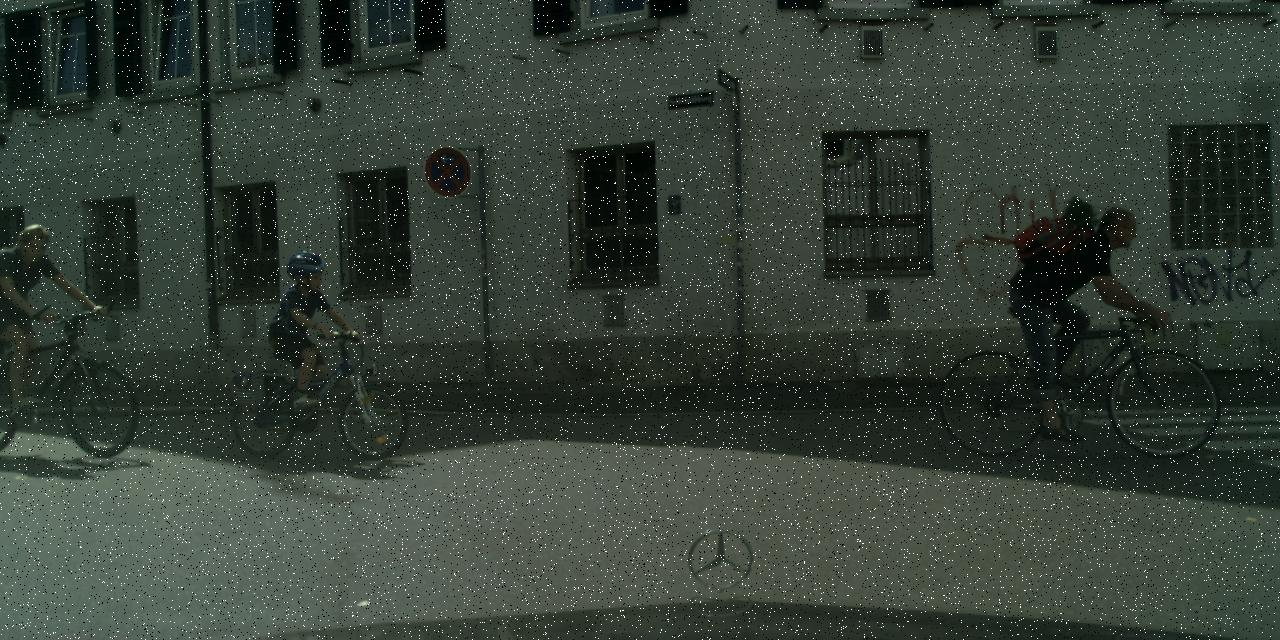ped: (1048, 208, 1132, 413), (0, 223, 67, 411), (270, 250, 336, 412)
